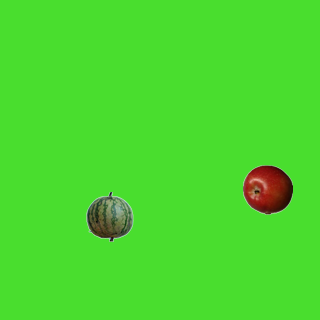Apple Braeburn: (242, 164, 292, 214)
Watermelon: (84, 191, 134, 241)
